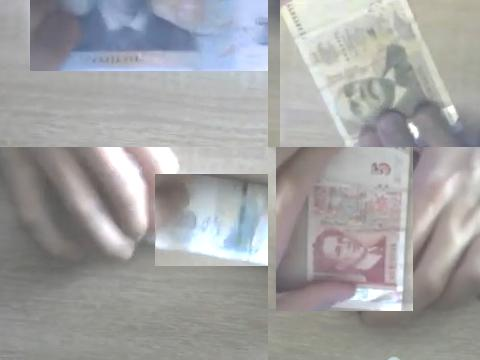10leva: (280, 0, 468, 147)
20leva: (155, 174, 268, 266)
5leva: (276, 147, 413, 311)
